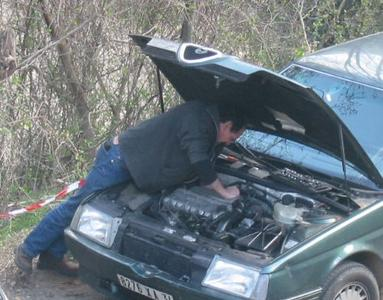person: (14, 98, 247, 275)
